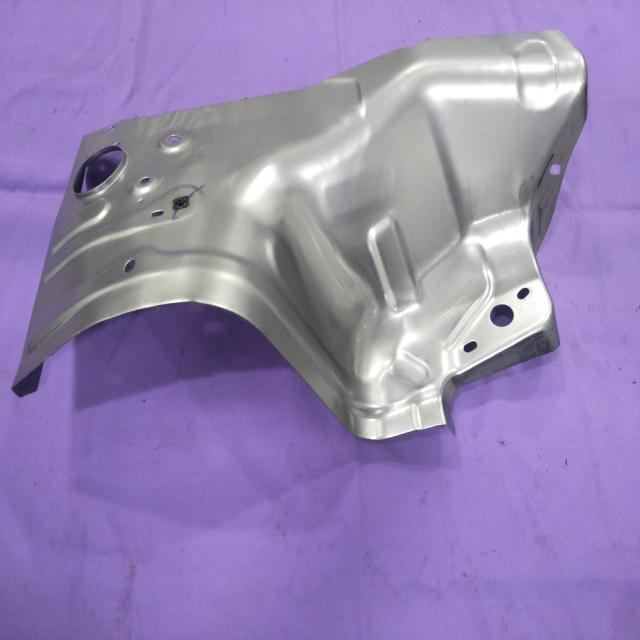Healthy: (12, 27, 589, 444)
